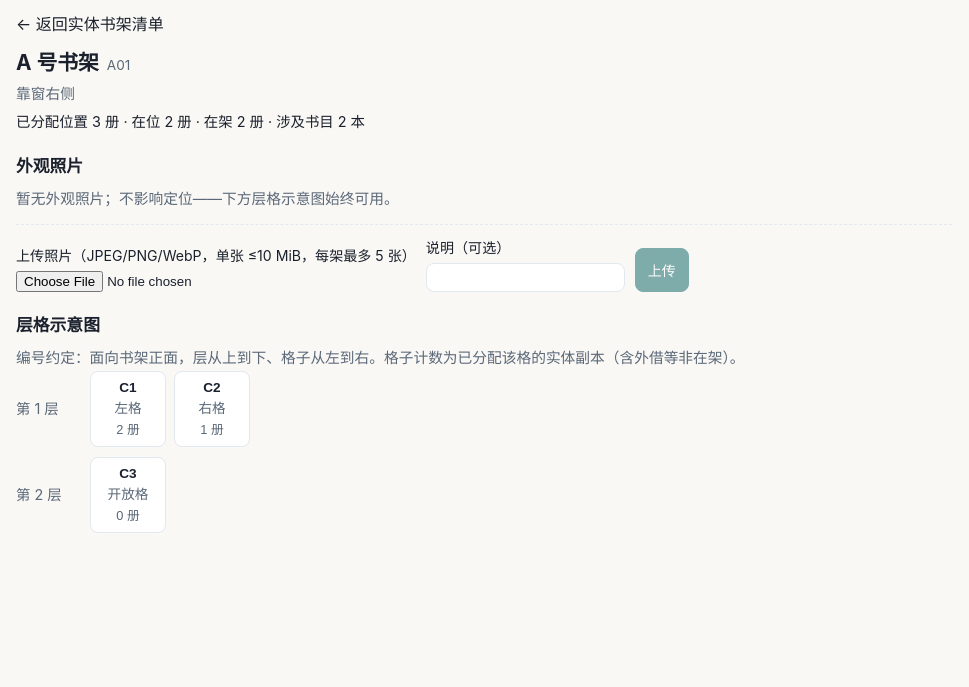
Test: StorageShelfView › 无照片时给出说明且示意图仍可定位
This screenshot has width=969, height=687.
Expected: the text with test id "no-photos" shows "暂无外观照片", 16,190 -> 399,208
Expected: the text with test id "no-photos" shows "示意图", 16,190 -> 399,208
Click the button "C1 左格 2 册".
click(128, 409)  # box 90,371 -> 166,447
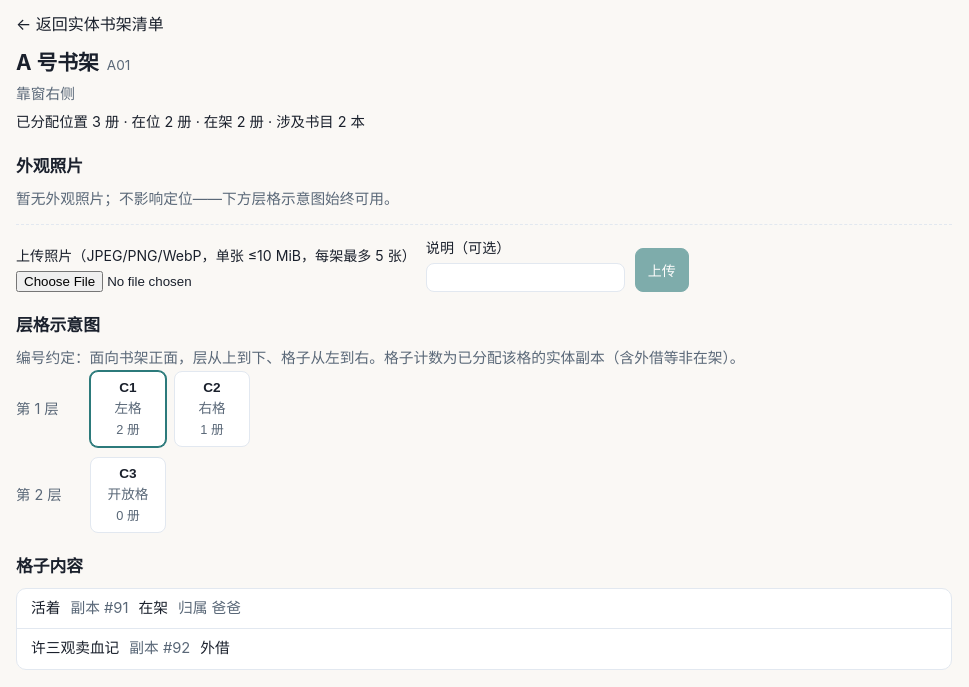
Now the element with class "cell-copies" shows "活着", box 31,599 -> 60,617
